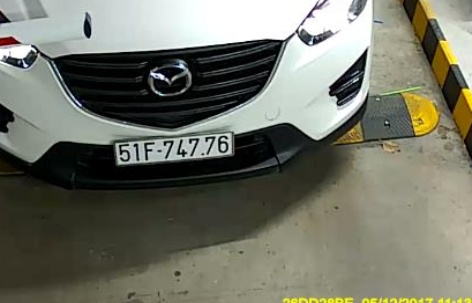plate: (108, 134, 239, 168)
